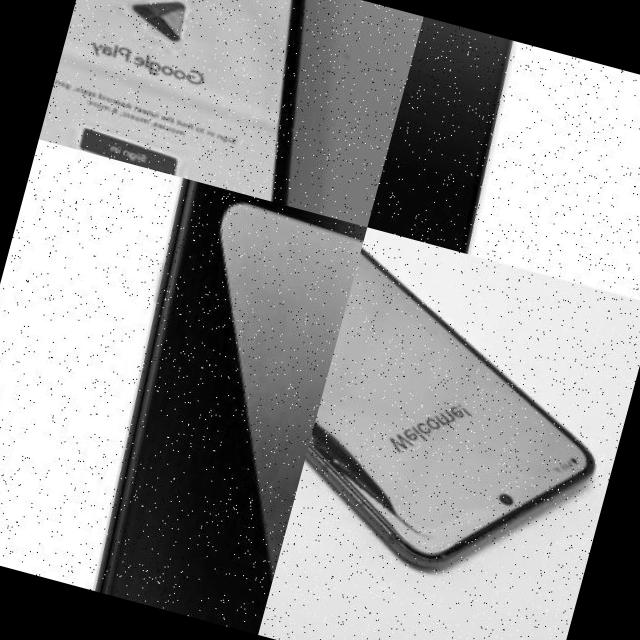dead pixel: (286, 301, 475, 559)
